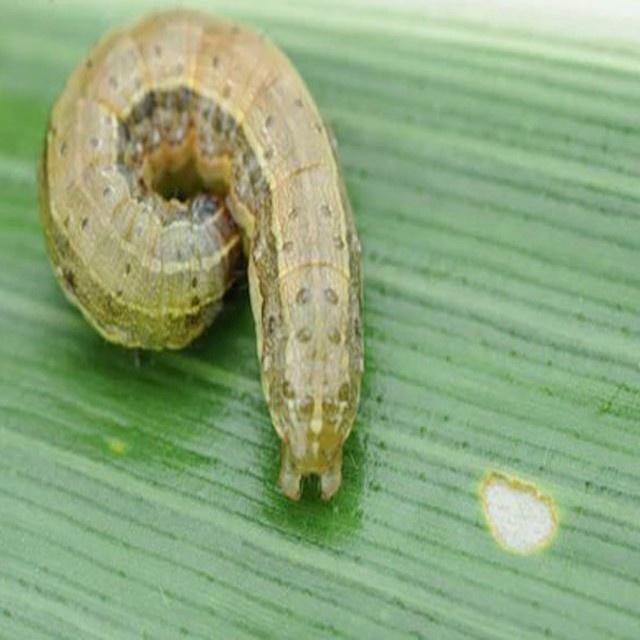gusano_cogollero: (34, 0, 368, 503)
